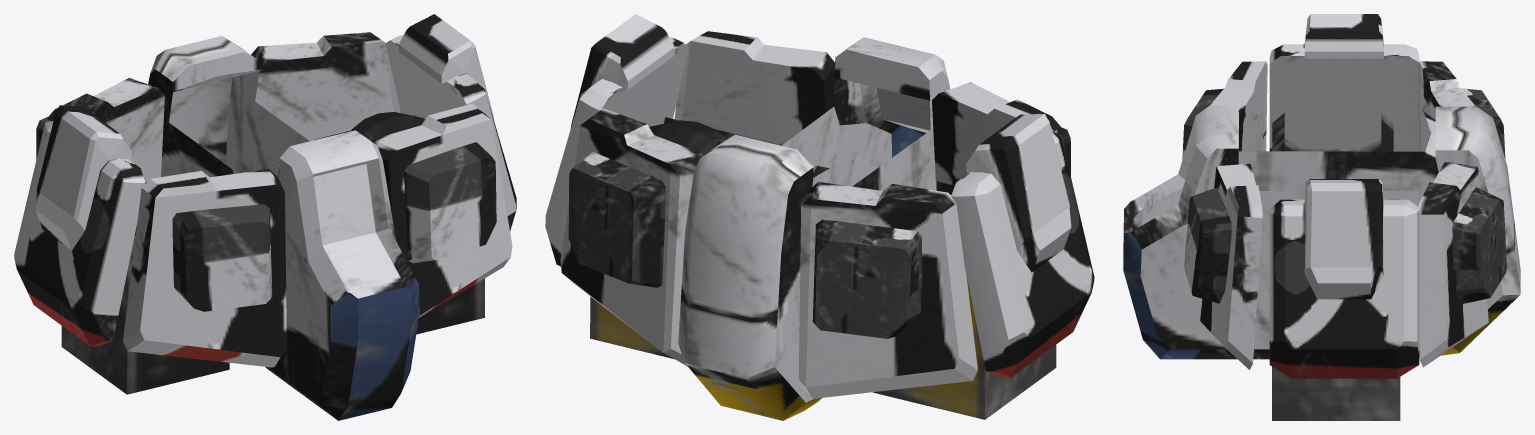
The model's file is bot.obj.
The picture shows the model from 3 angles, left to right: view 1: azimuth 30°, elevation 25°; view 2: azimuth 150°, elevation 25°; view 3: azimuth 270°, elevation 25°; orthographic projection. The views are drawn at different scales.
Parts seen in each view (by area): view 1: group1 polySurface666 polySurface689, group1 polySurface666 polySurface703, group1 polySurface666 polySurface704, group1 polySurface666 polySurface715, group1 polySurface666 polySurface708, polySurface702 group1 polySurface666, group1 polySurface666 polySurface707, group1 polySurface666 polySurface705, group1 polySurface666 polySurface779, group1 polySurface666 polySurface701, group1 polySurface666 polySurface789, group1 polySurface666 polySurface706 (+2 smaller); view 2: group1 polySurface666 polySurface689, group1 polySurface666 polySurface701, group1 polySurface666 polySurface704, group1 polySurface666 polySurface708, group1 polySurface666 polySurface715, group1 polySurface666 polySurface700, group1 polySurface666 polySurface714, group1 polySurface666 polySurface705, group1 polySurface666 polySurface789, group1 polySurface666 polySurface703, group1 polySurface666 polySurface779, group1 polySurface666 polySurface706 (+2 smaller); view 3: group1 polySurface666 polySurface689, group1 polySurface666 polySurface789, group1 polySurface666 polySurface704, group1 polySurface666 polySurface706, group1 polySurface666 polySurface715, group1 polySurface666 polySurface708, group1 polySurface666 polySurface778, group1 polySurface666 polySurface714, group1 polySurface666 polySurface707, group1 polySurface666 polySurface705, group1 polySurface666 polySurface703, group1 polySurface666 polySurface701 (+3 smaller).
Boxes of the visible parts, x1,y1,x2,y2 form: group1 polySurface666 polySurface689: [148, 36, 419, 420]; group1 polySurface666 polySurface703: [123, 169, 286, 367]; group1 polySurface666 polySurface704: [14, 121, 145, 346]; group1 polySurface666 polySurface715: [251, 32, 400, 141]; group1 polySurface666 polySurface708: [371, 103, 512, 317]; polySurface702 group1 polySurface666: [172, 204, 272, 311]; group1 polySurface666 polySurface707: [404, 142, 496, 263]; group1 polySurface666 polySurface705: [35, 105, 131, 250]; group1 polySurface666 polySurface779: [61, 182, 229, 394]; group1 polySurface666 polySurface701: [46, 78, 164, 182]; group1 polySurface666 polySurface789: [385, 35, 516, 231]; group1 polySurface666 polySurface706: [398, 14, 494, 120]; group1 polySurface666 polySurface689: [678, 37, 950, 420]; group1 polySurface666 polySurface701: [798, 181, 977, 398]; group1 polySurface666 polySurface704: [951, 131, 1094, 377]; group1 polySurface666 polySurface708: [674, 31, 834, 145]; group1 polySurface666 polySurface715: [560, 108, 703, 366]; group1 polySurface666 polySurface700: [812, 219, 922, 338]; group1 polySurface666 polySurface714: [568, 152, 665, 287]; group1 polySurface666 polySurface705: [966, 113, 1071, 272]; group1 polySurface666 polySurface789: [545, 37, 688, 266]; group1 polySurface666 polySurface703: [932, 82, 1063, 190]; group1 polySurface666 polySurface779: [873, 181, 1056, 419]; group1 polySurface666 polySurface706: [570, 14, 674, 128]; group1 polySurface666 polySurface689: [1123, 105, 1520, 359]; group1 polySurface666 polySurface789: [1269, 199, 1419, 378]; group1 polySurface666 polySurface704: [1269, 44, 1419, 151]; group1 polySurface666 polySurface706: [1304, 179, 1383, 299]; group1 polySurface666 polySurface715: [1418, 161, 1488, 367]; group1 polySurface666 polySurface708: [1200, 163, 1262, 369]; group1 polySurface666 polySurface778: [1272, 366, 1400, 420]; group1 polySurface666 polySurface714: [1452, 187, 1506, 303]; group1 polySurface666 polySurface707: [1184, 187, 1231, 303]; group1 polySurface666 polySurface705: [1304, 14, 1383, 58]; group1 polySurface666 polySurface703: [1210, 61, 1267, 151]; group1 polySurface666 polySurface701: [1418, 61, 1475, 151].
Bounding box in the file's own units: 6.73 × 3.92 × 5.67.
1 material, 1 textured.
